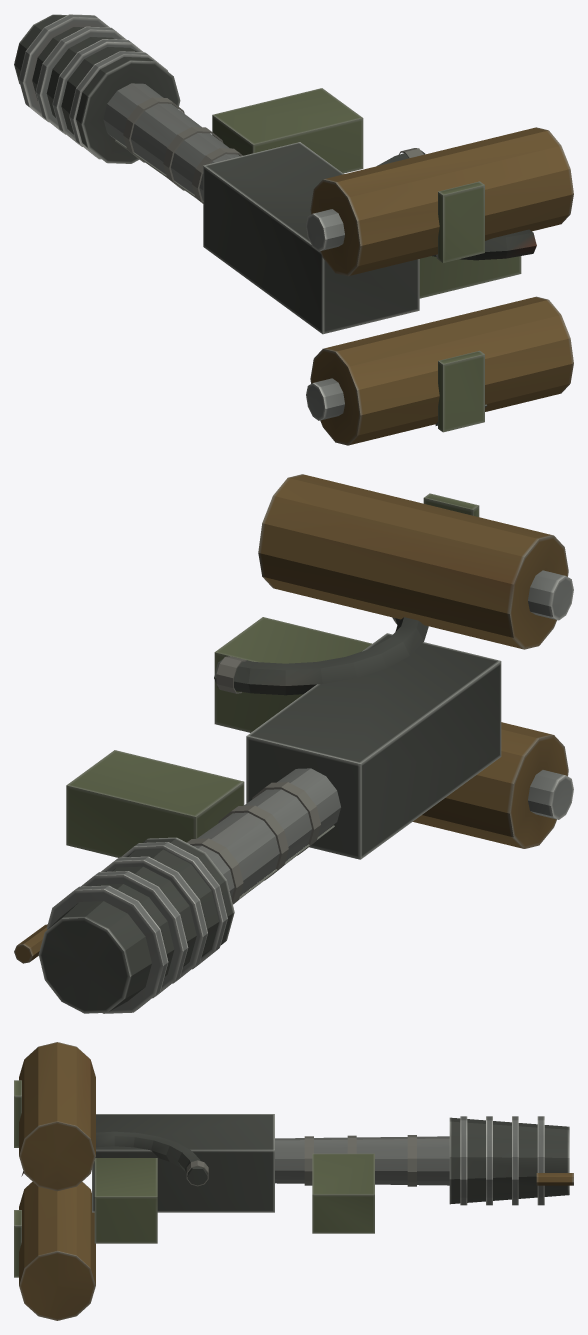
File: flamethrower.glb
3 views of the same model, one above another, from view 1: azimuth 30°, elevation 25°; view 2: azimuth 150°, elevation 25°; view 3: azimuth 270°, elevation 25° (orthographic). The views are drawn at different scales.
Parts seen in each view (by area): view 1: groundWeapon-flamethrower, frissonWeaponDress; view 2: groundWeapon-flamethrower, frissonWeaponDress; view 3: groundWeapon-flamethrower, frissonWeaponDress.
Part boxes in pixels (left/top/right/bottom): groundWeapon-flamethrower: left=14, top=14, right=573, bottom=445; frissonWeaponDress: left=115, top=97, right=487, bottom=425; groundWeapon-flamethrower: left=14, top=474, right=573, bottom=1013; frissonWeaponDress: left=187, top=617, right=396, bottom=904; groundWeapon-flamethrower: left=14, top=1042, right=573, bottom=1320; frissonWeaponDress: left=186, top=1135, right=416, bottom=1186.
Size of the model in its own units: 0.3605 by 0.384 by 0.9785.
